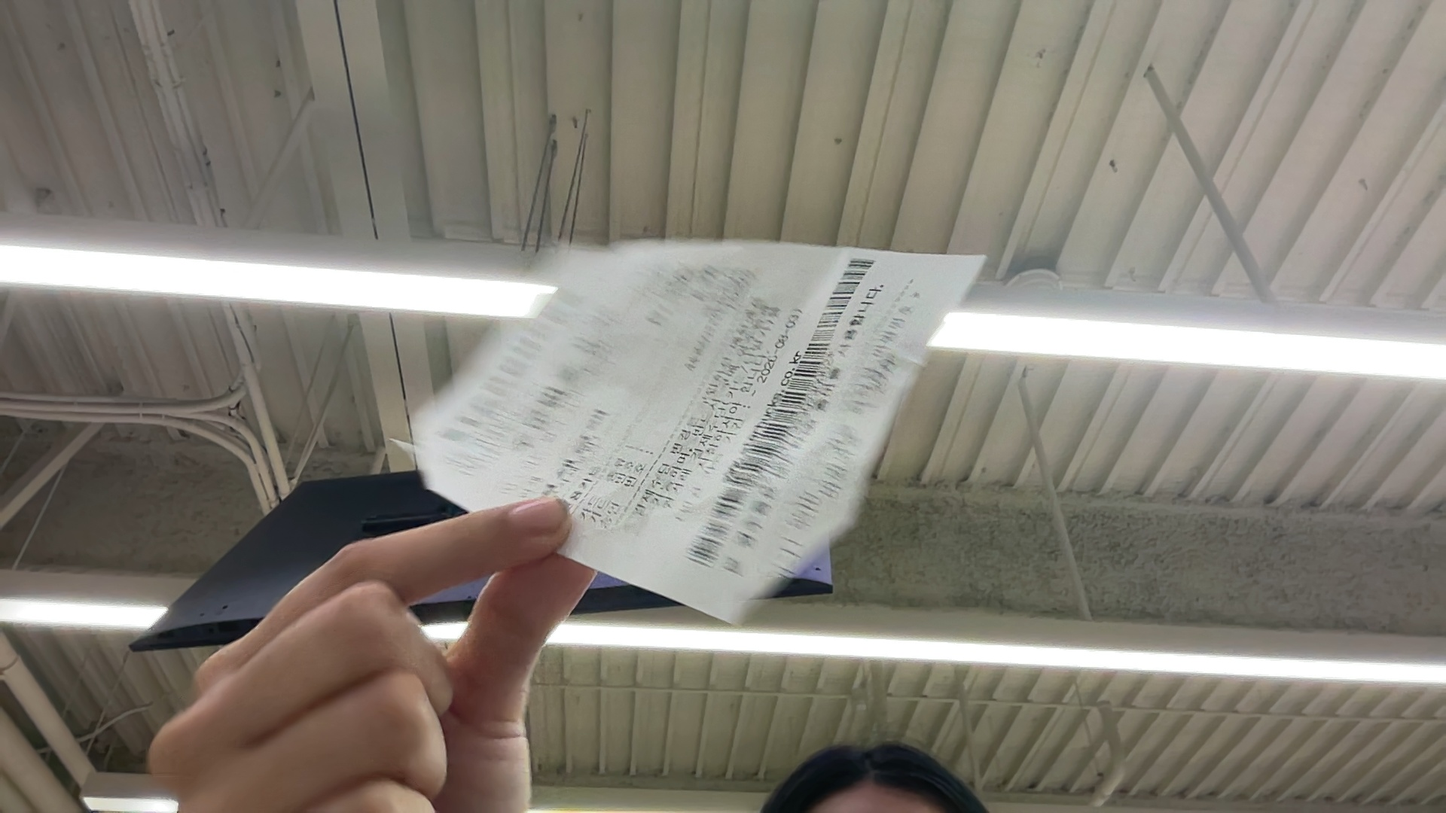Paper: (2, 398, 279, 631)
